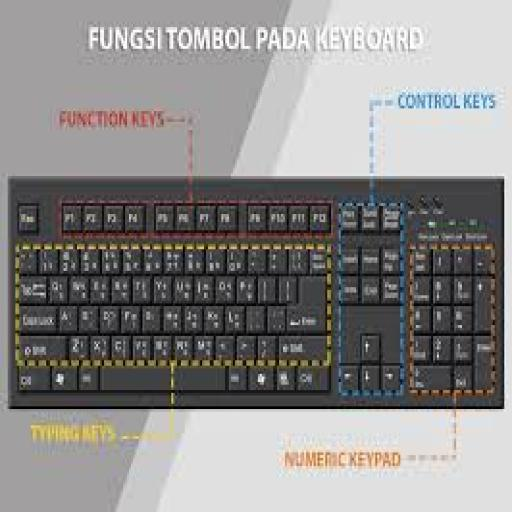keyboard: (8, 176, 510, 409)
